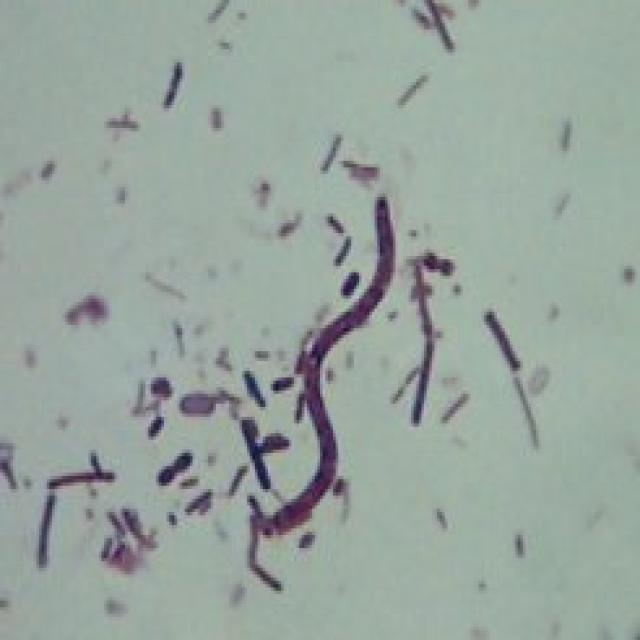Amoeba: (0, 4, 637, 640)
